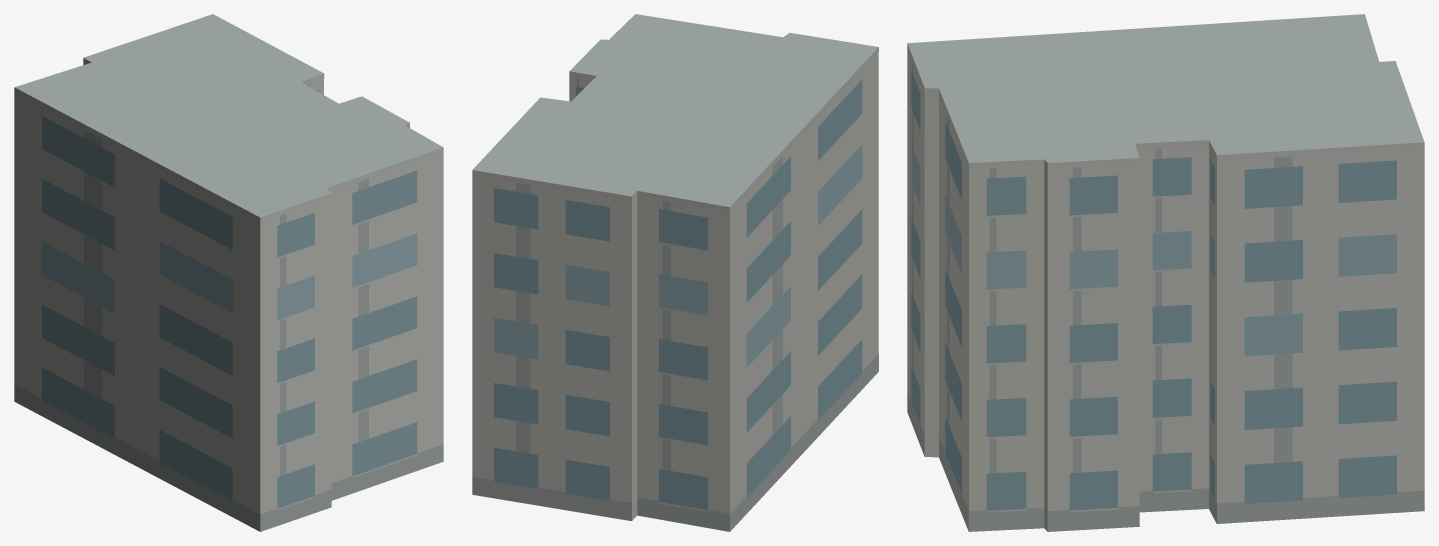
File: survey-upis-33003419.glb
3 renders of one model, left to right at view 1: azimuth 30°, elevation 25°; view 2: azimuth 150°, elevation 25°; view 3: azimuth 270°, elevation 25°, orthographic. The views are drawn at different scales.
Parts seen in each view (by area): view 1: survey-upis-33003419.tmp; view 2: survey-upis-33003419.tmp; view 3: survey-upis-33003419.tmp.
Part boxes in pixels (bbox=[...]): survey-upis-33003419.tmp: bbox=[14, 14, 443, 531]; survey-upis-33003419.tmp: bbox=[472, 14, 878, 531]; survey-upis-33003419.tmp: bbox=[907, 14, 1424, 531].
Bounding box in the file's own units: 12.49 × 14.4 × 18.31.
